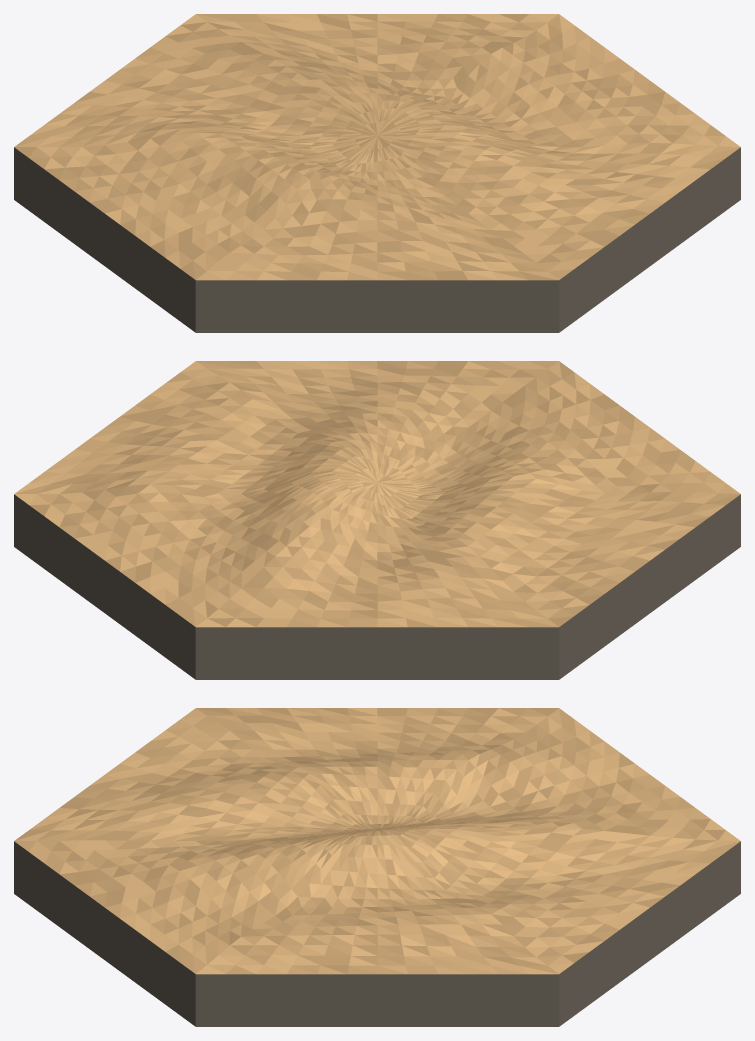
File: TERRAIN_DESERT_v00.fbx
The picture shows the model from 3 angles, top to bottom: view 1: azimuth 30°, elevation 25°; view 2: azimuth 150°, elevation 25°; view 3: azimuth 270°, elevation 25°; orthographic projection.
Parts seen in each view (by area): view 1: TERRAIN_DESERT_v00; view 2: TERRAIN_DESERT_v00; view 3: TERRAIN_DESERT_v00.
Part boxes in pixels (x1,y1,x2,y2): TERRAIN_DESERT_v00: [14, 14, 740, 332]; TERRAIN_DESERT_v00: [14, 361, 740, 679]; TERRAIN_DESERT_v00: [14, 708, 740, 1026].
Size of the model in its own units: 173 by 22.81 by 200.
